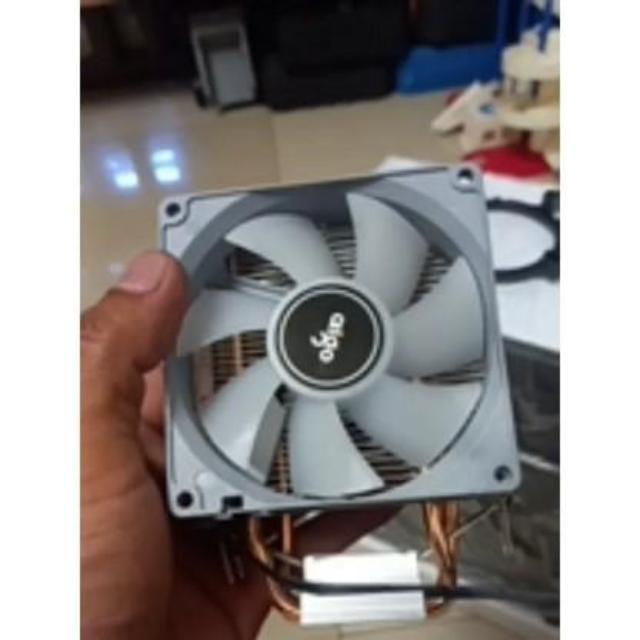CPU_Fan: (162, 166, 520, 623)
